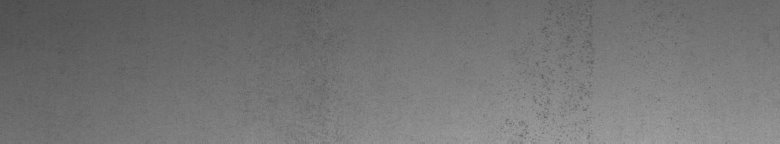ib: (506, 15, 594, 136)
